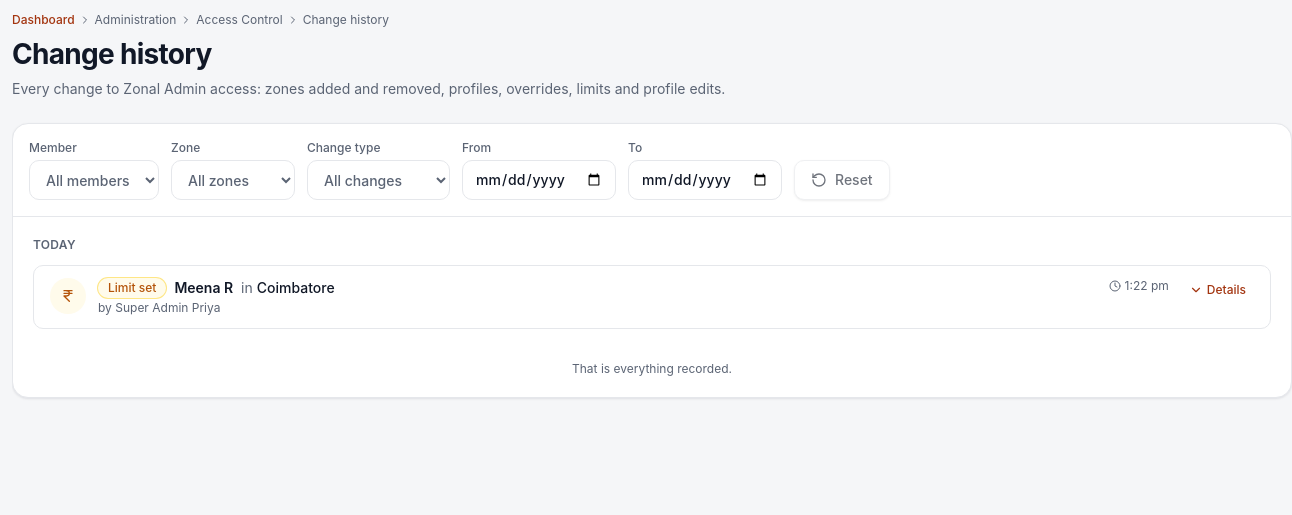
access change history page › rows show type, member link, zone and actor, grouped by day; details expand to before/after
Expected: the text "Limit set" is shown, [98,278,166,298]
Expected: the text "Coimbatore" is shown, [257,279,335,296]
What coordinates should you click on to do the following:
click the button "Details"
I would click on:
 (1217, 290)
Its box is [1181,278,1254,302].
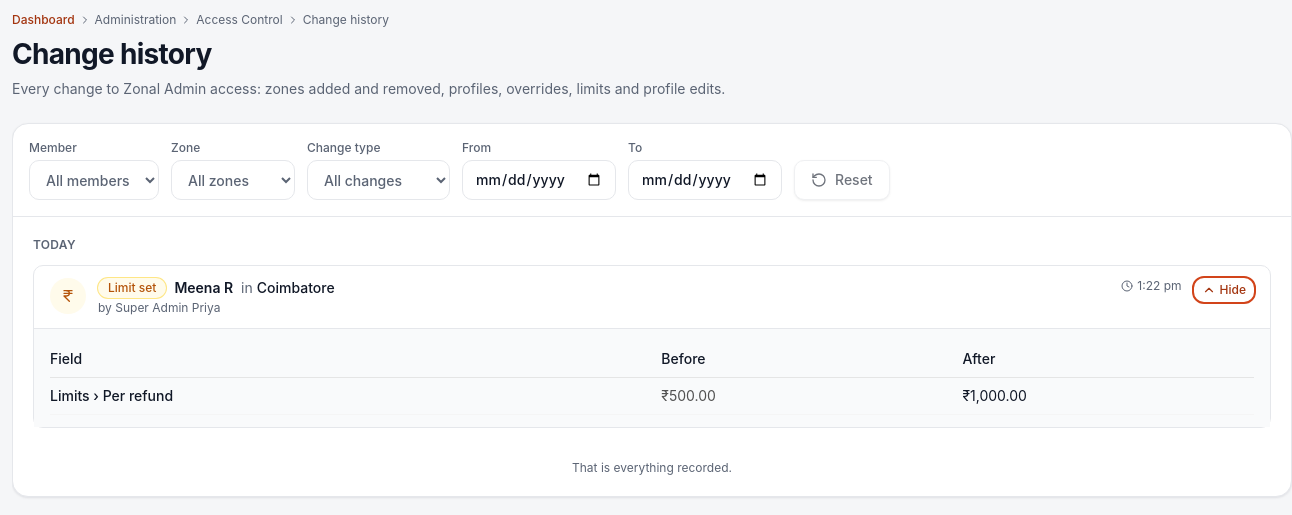
Now the button named "Details" is expanded, box [1194,278,1254,302]
Now the column heading "Limits › Per refund" is shown, box [50,378,661,415]
Now the text "₹500.00" is shown, box [661,378,962,415]
